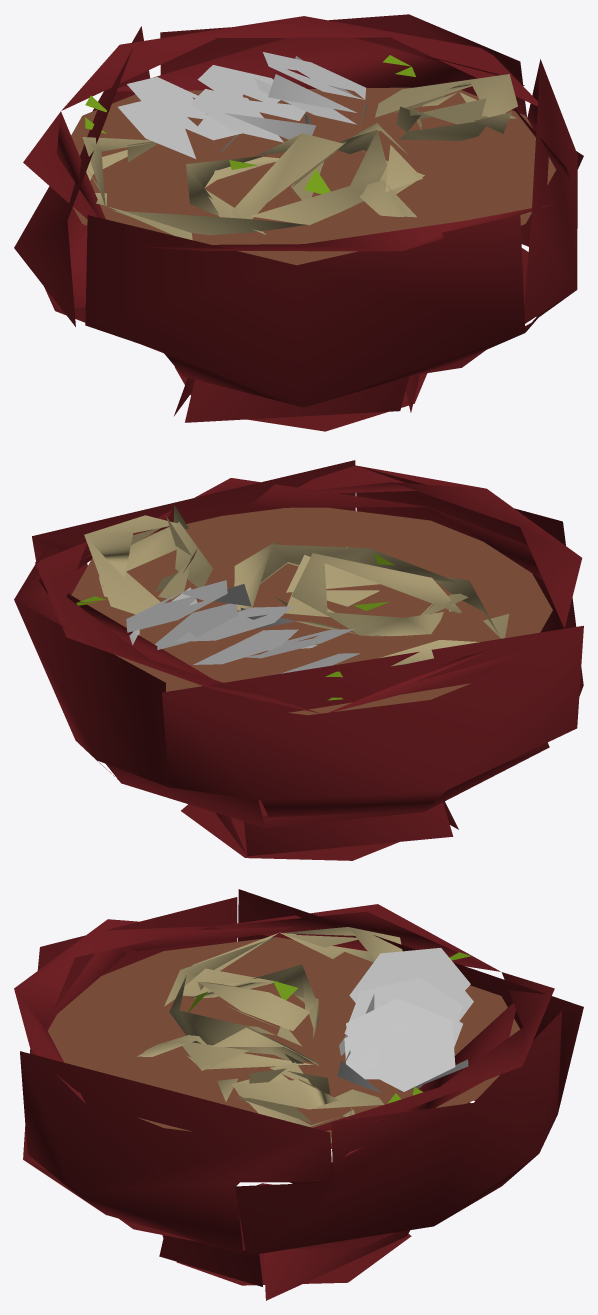
The model's file is udon.fbx.
3 renders of one model, top to bottom at view 1: azimuth 30°, elevation 25°; view 2: azimuth 150°, elevation 25°; view 3: azimuth 270°, elevation 25°, orthographic. The views are drawn at different scales.
Visible parts, largest first — view 1: Food_Udon; view 2: Food_Udon; view 3: Food_Udon.
Part boxes in pixels (x1,y1,x2,y2): Food_Udon: (14, 14, 583, 431); Food_Udon: (14, 460, 583, 860); Food_Udon: (14, 889, 583, 1300).
Bounding box in the file's own units: 0.9855 × 0.476 × 0.9754.
